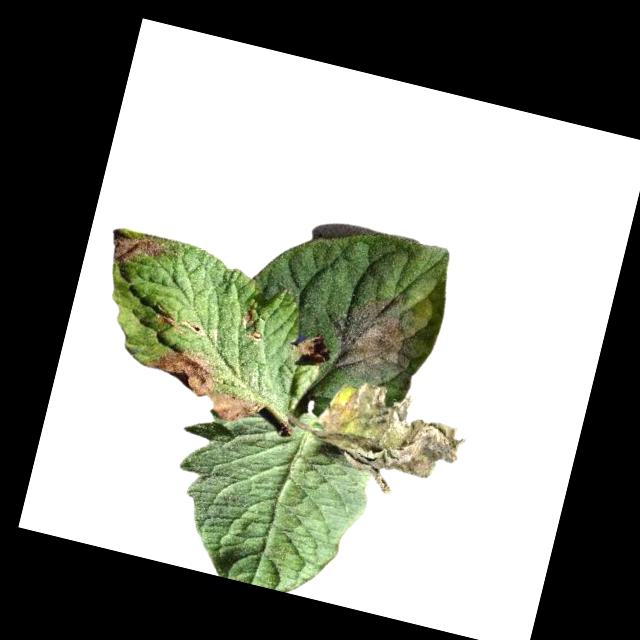Late_blight: (298, 372, 471, 511), (135, 339, 273, 430), (326, 279, 427, 390), (104, 225, 181, 280), (286, 328, 334, 375), (150, 308, 207, 342), (236, 302, 272, 346)
healthy: (153, 404, 377, 605)
